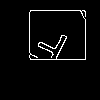F: (22, 25, 71, 80)
